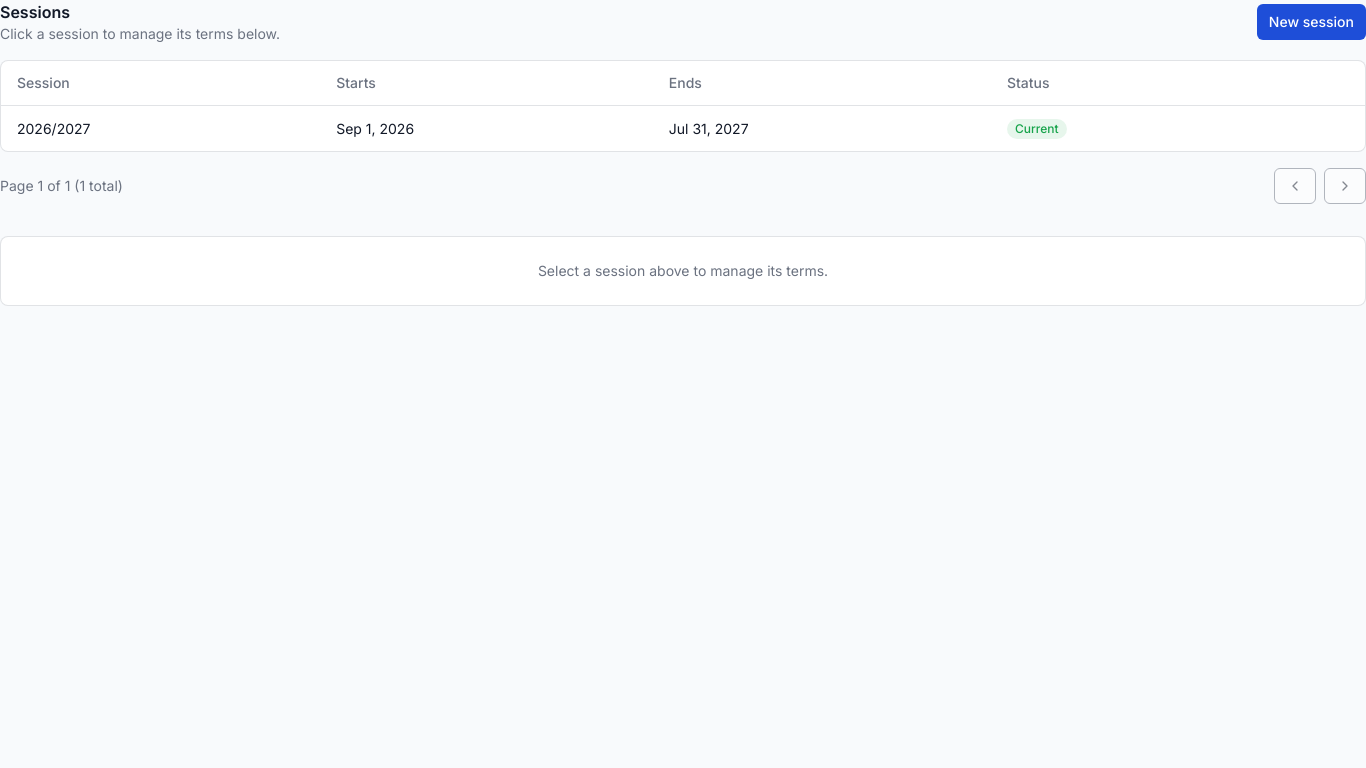
Test: AcademicSettingsPage › creates a new session
Expected: the text "2026/2027" is shown, [1,106,320,151]
Step 1. Click the button "New session" → (1311, 22), box [1257,4,1365,40]
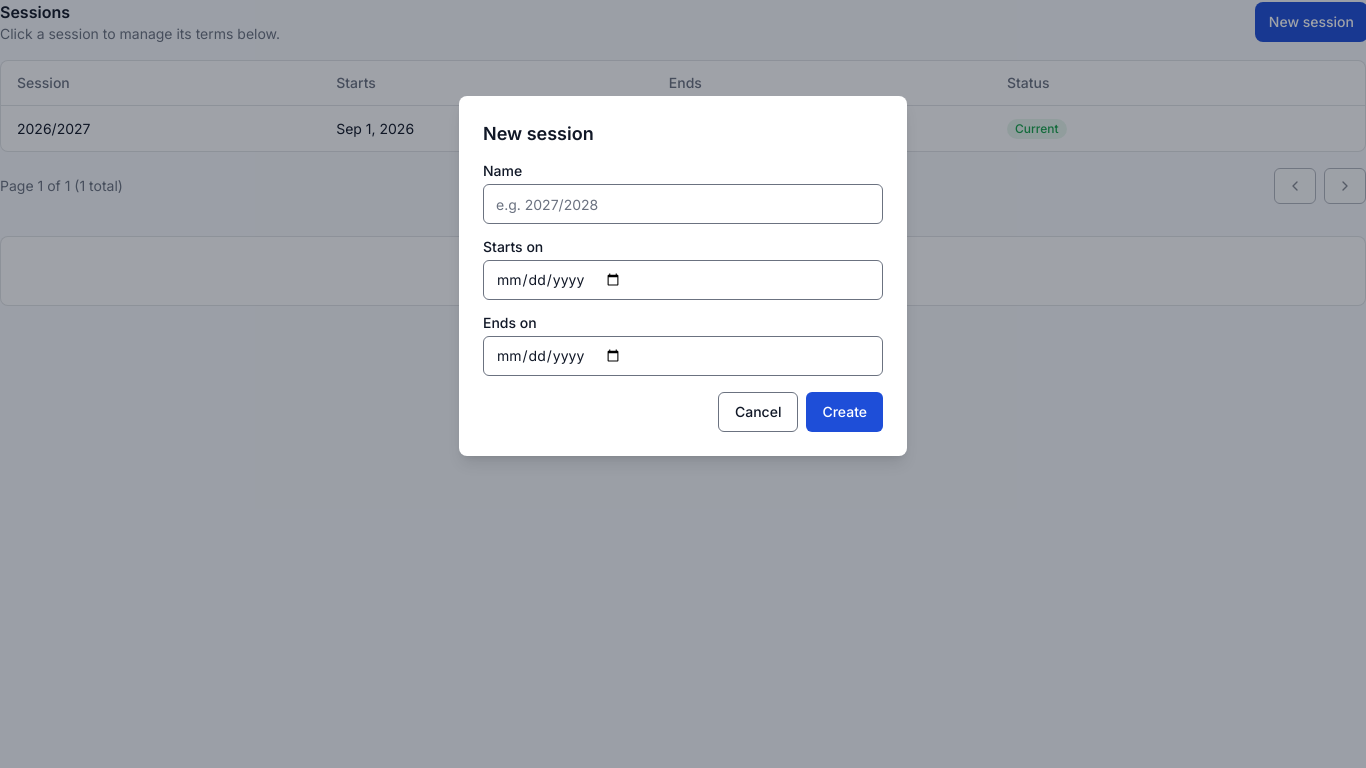
Step 2. Type "2027/2028" into the field labelled "Name" → (683, 204), box [483,184,883,224]
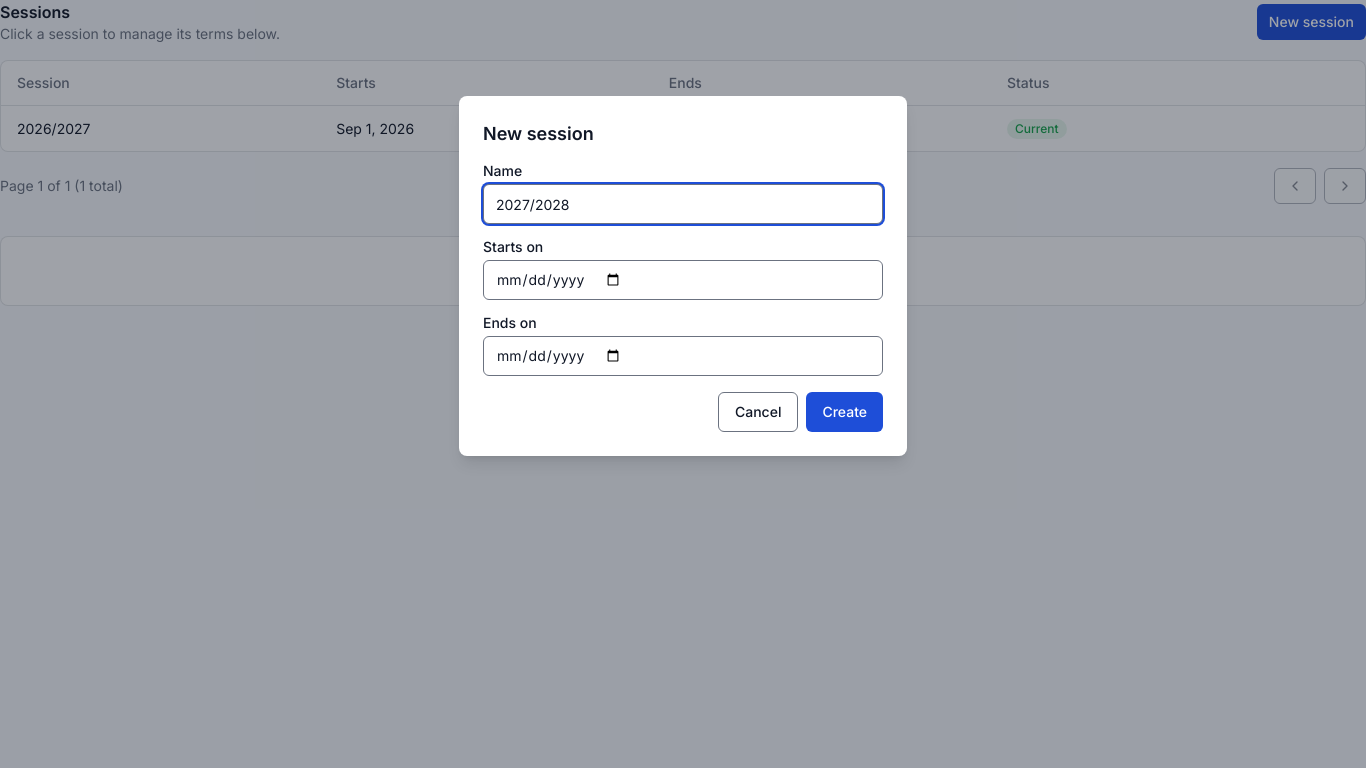
Step 3. Type "2027-09-01" into the date field labelled "Starts on" → (683, 280), box [483,260,883,300]
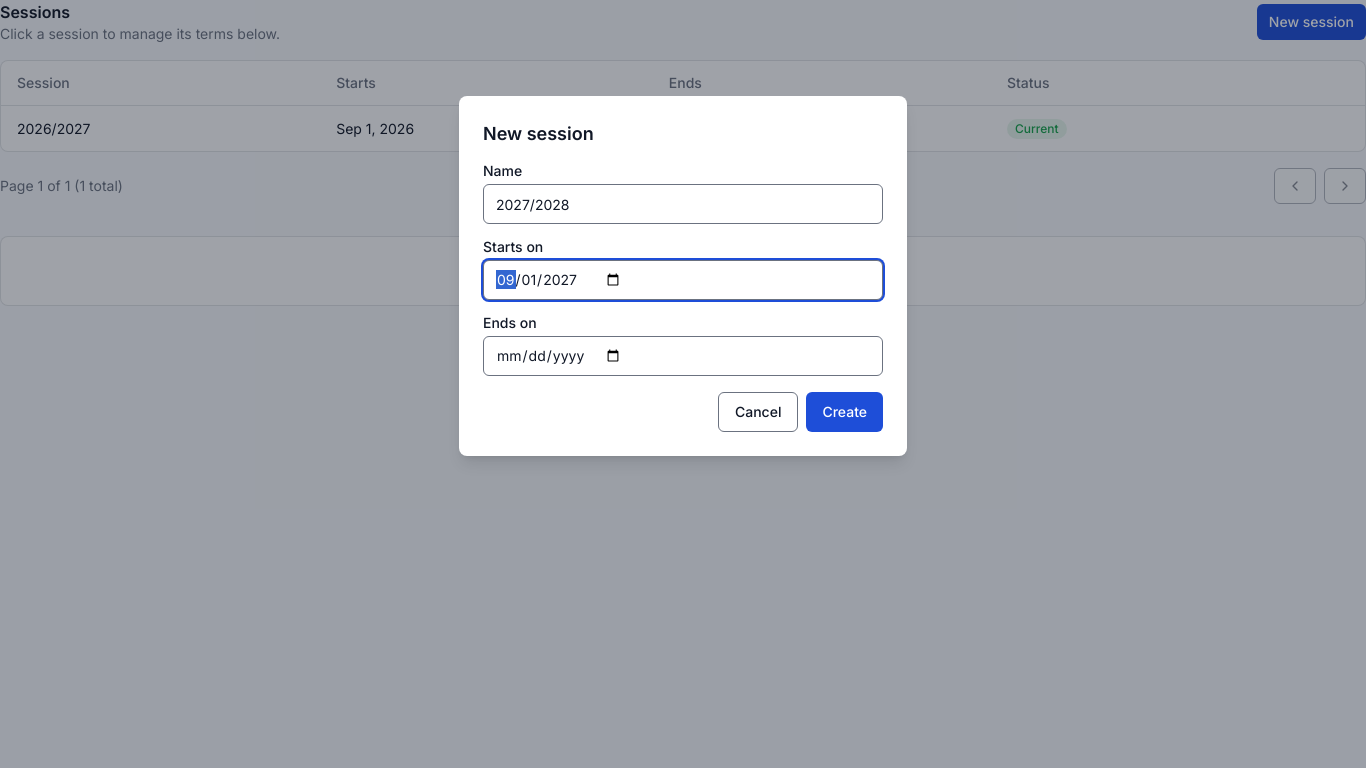
Step 4. Type "2028-07-31" into the date field labelled "Ends on" → (683, 356), box [483,336,883,376]
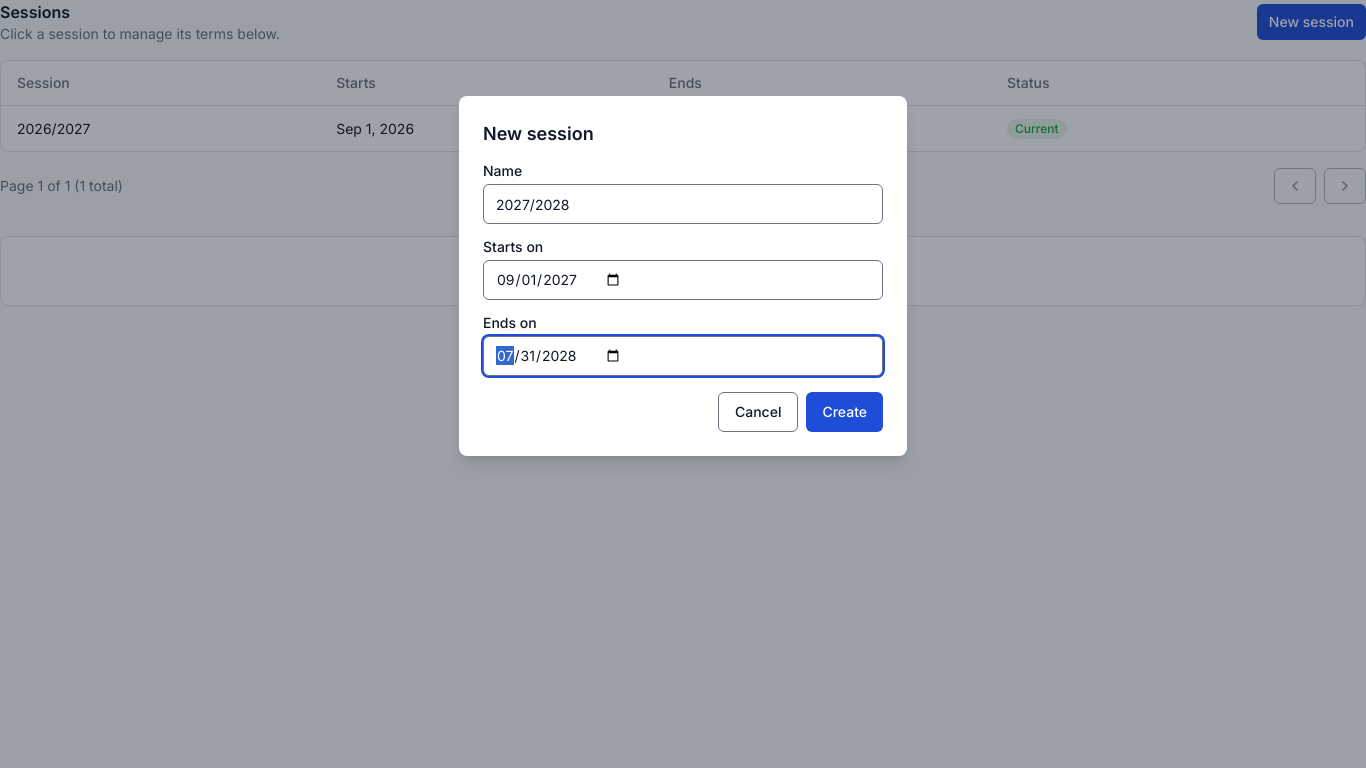
Step 5. Click the button "Create" → (845, 412), box [806,392,883,432]
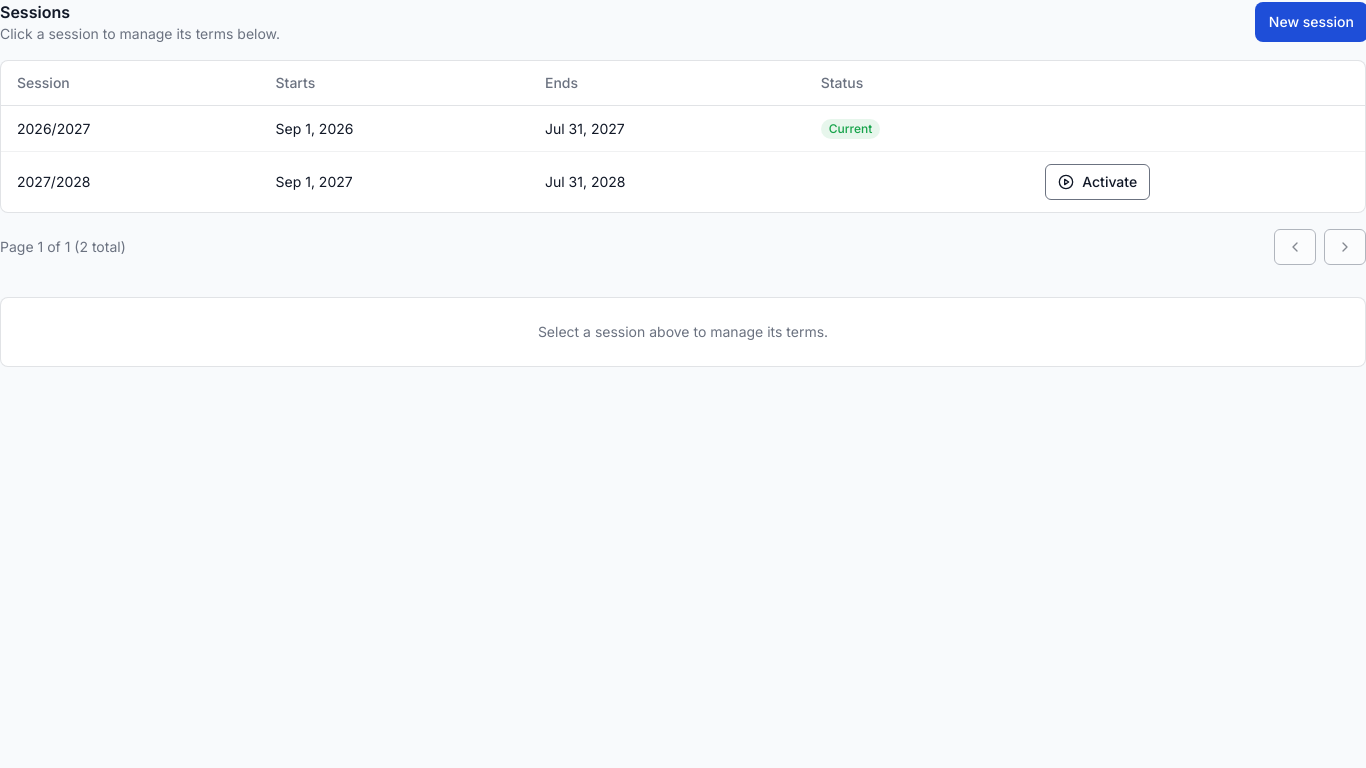
Result: the text "2027/2028" is shown at [1,152,260,212]
